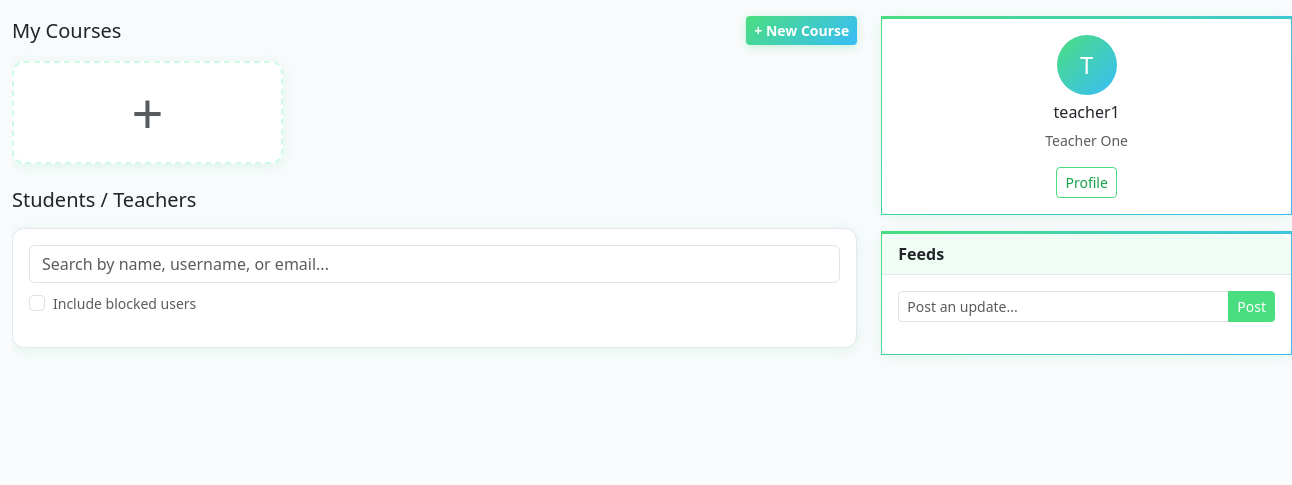
TeacherHome › shows user preview card with avatar, email, bio
The width and height of the screenshot is (1292, 485).
Type "bob" into the field with placeholder "Search by name, username, or email..." at (435, 264), box [29,245,840,283]
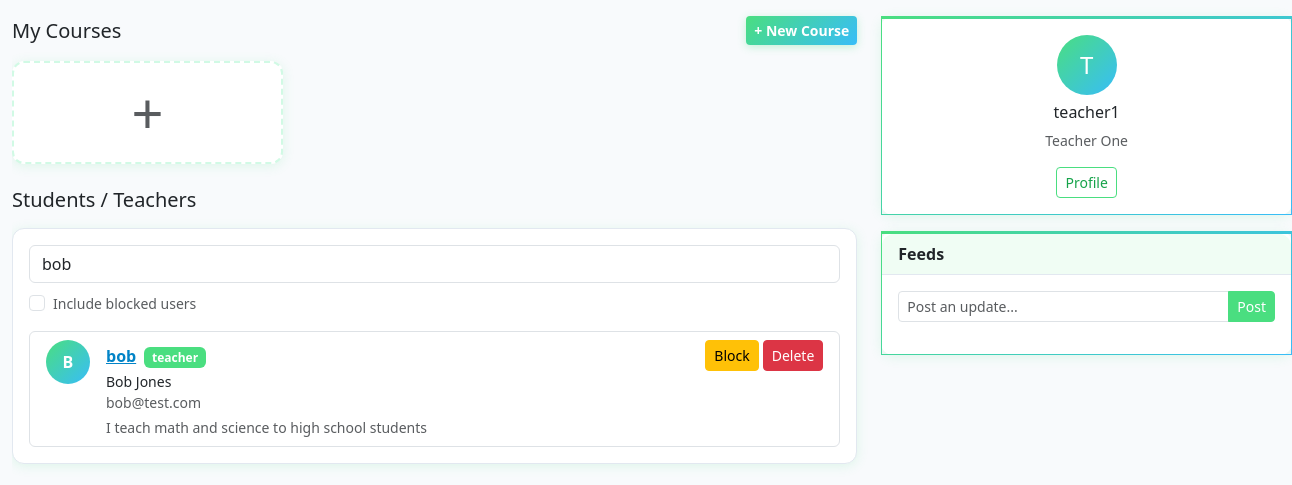
expect the link "bob" is shown: met, box [106,345,136,367]
expect the text "Bob Jones" is shown: met, box [106,372,171,391]
expect the text "bob@test.com" is shown: met, box [106,393,201,412]
